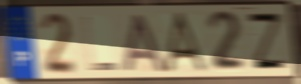2: (205, 8, 249, 75), (38, 11, 78, 78)
A: (162, 9, 213, 74), (121, 12, 169, 74)
L: (81, 14, 119, 73)
Z: (245, 11, 291, 72)
